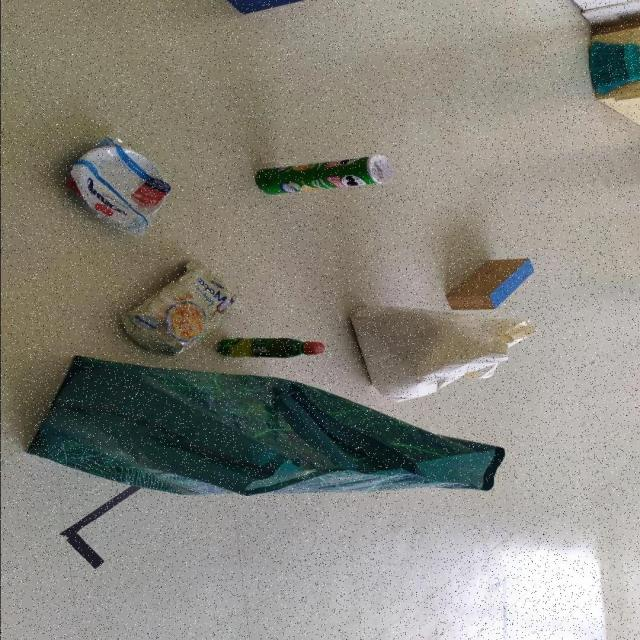Bag: (20, 364, 503, 500), (349, 302, 532, 399)
CornFlakes: (117, 256, 243, 355)
Guarana: (214, 337, 323, 359)
Plate: (68, 142, 170, 224)
Pringles: (252, 155, 392, 196)
